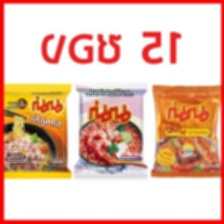snack: (70, 76, 153, 181), (0, 77, 76, 184), (148, 78, 221, 181)
